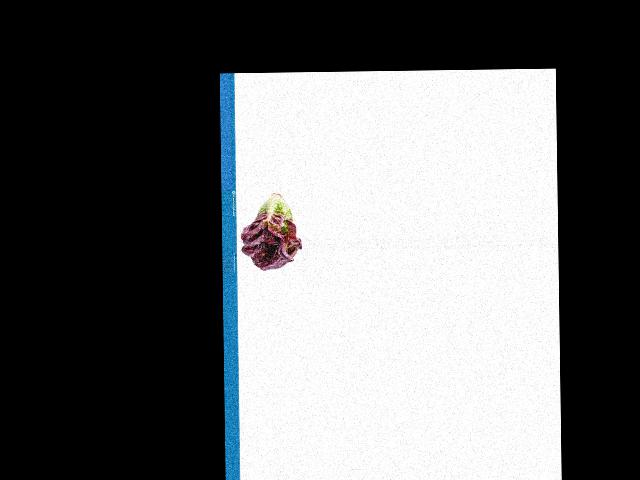lettuce: (240, 192, 300, 269)
